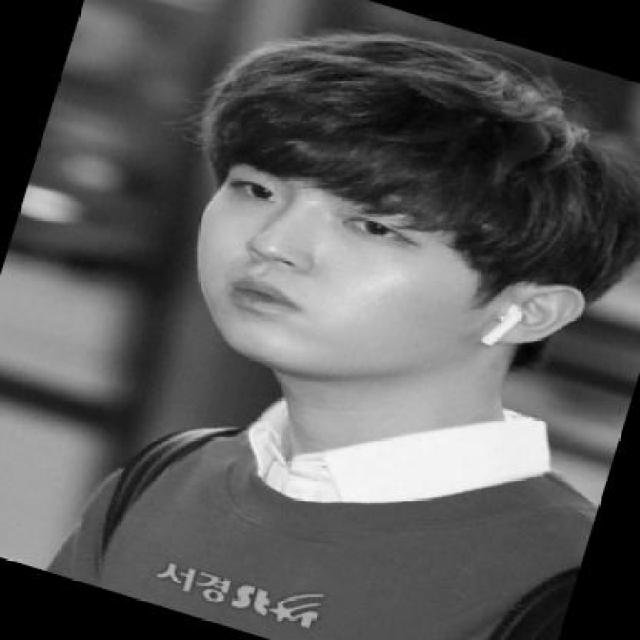earphone: (475, 292, 542, 371)
